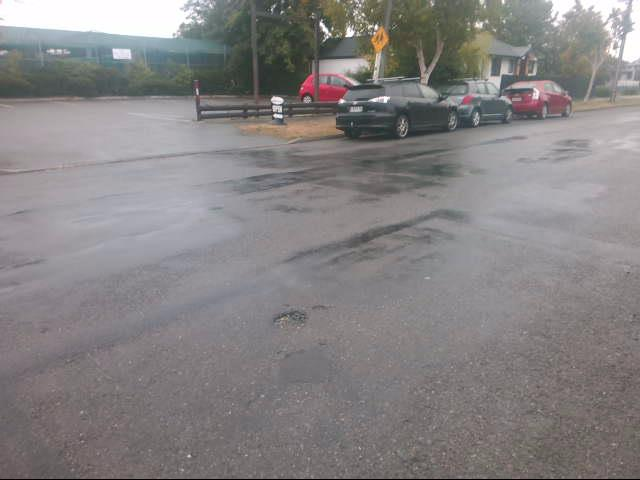pothole: (271, 306, 308, 334)
